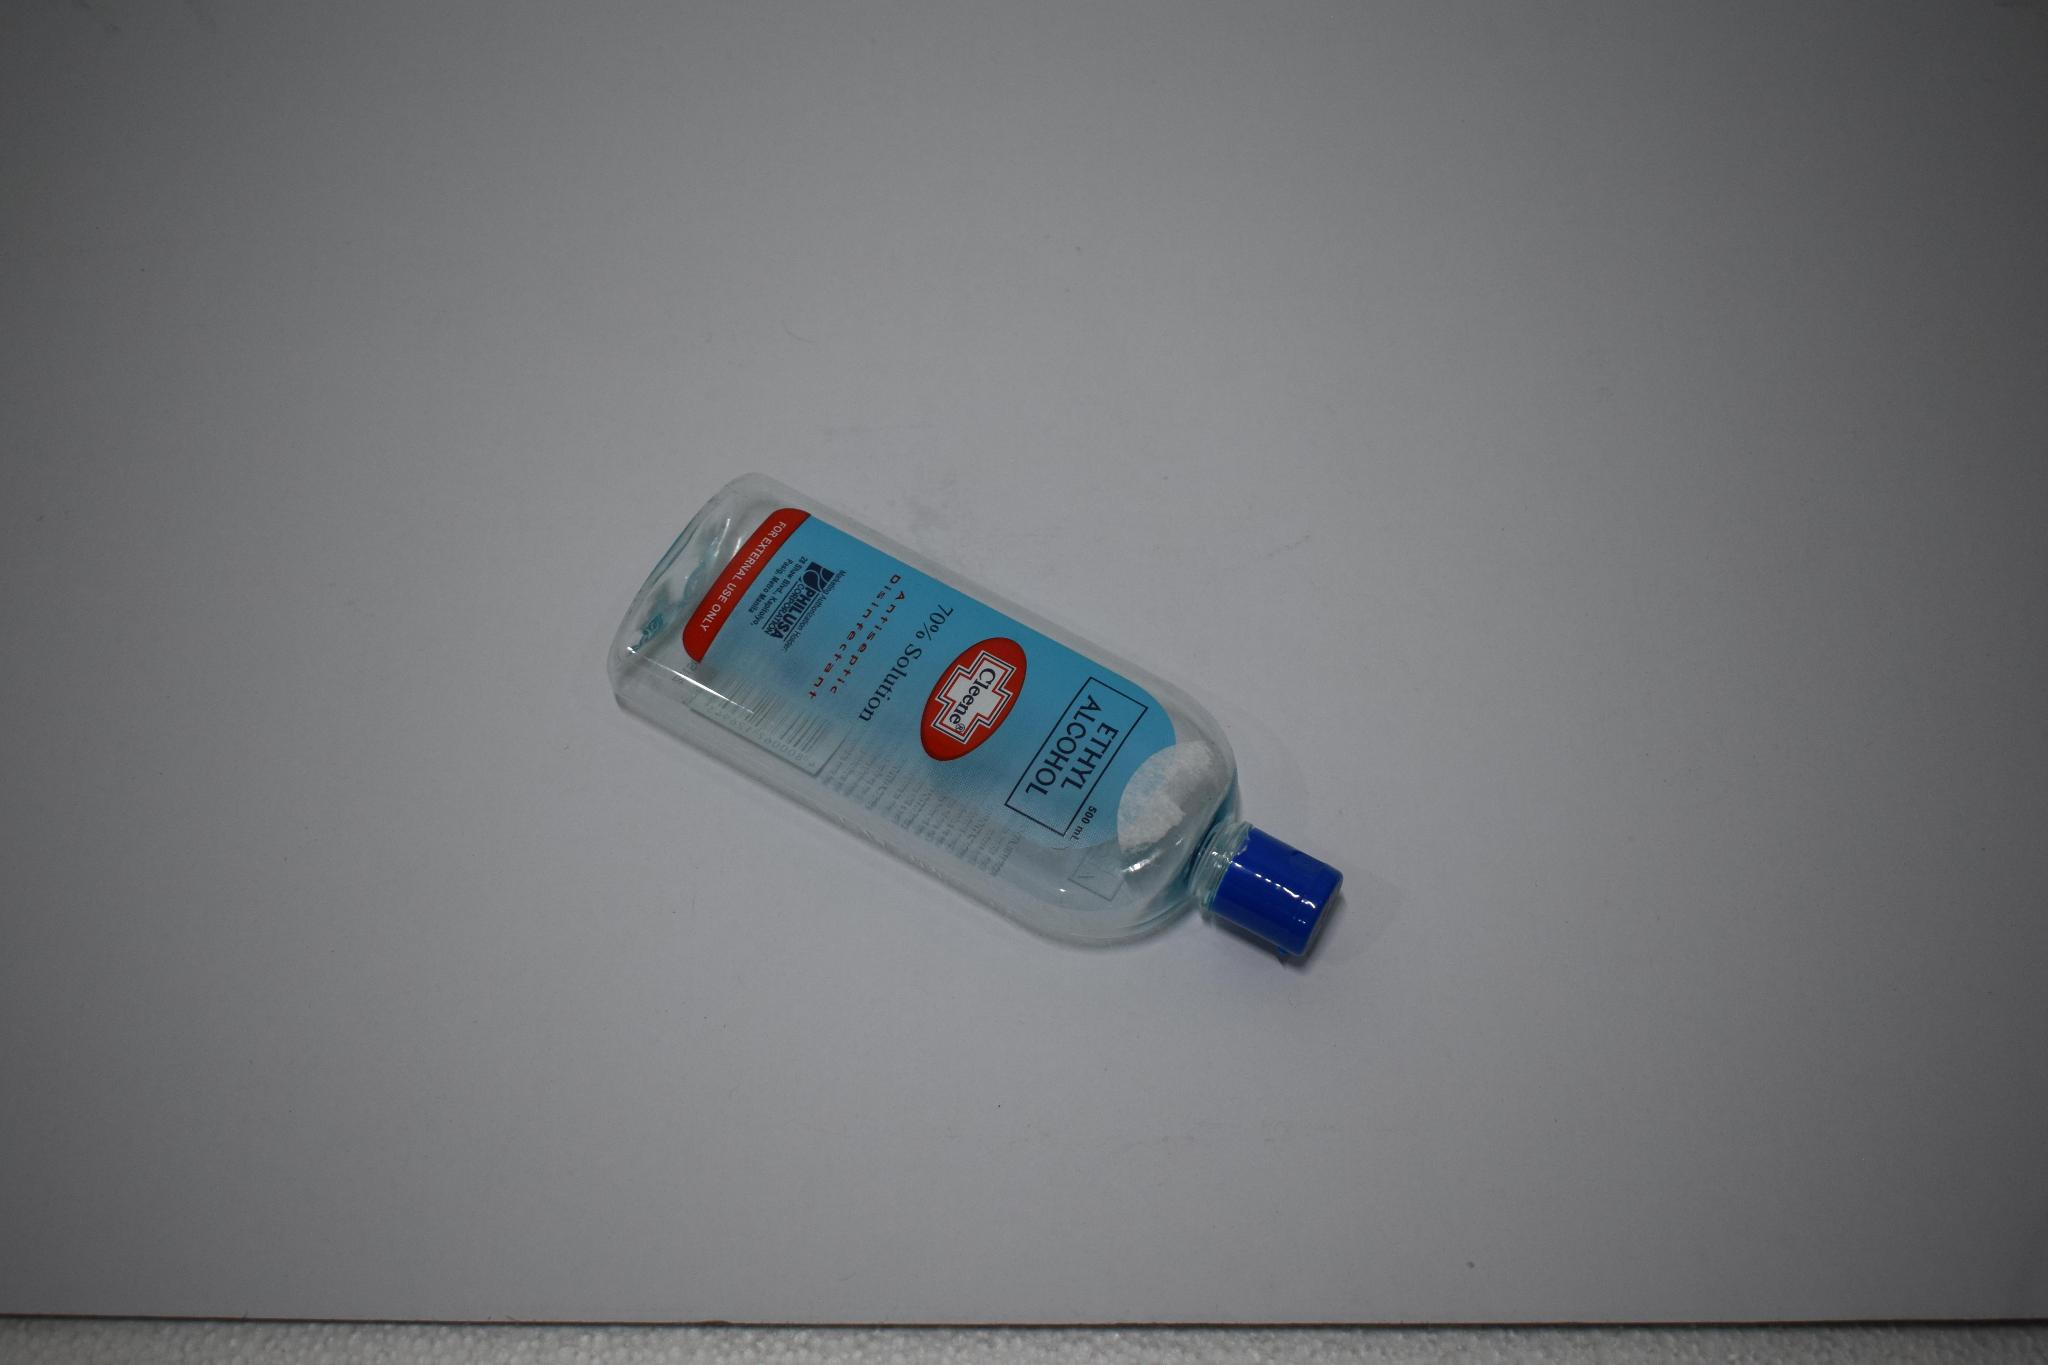bottle: (589, 465, 1367, 996)
